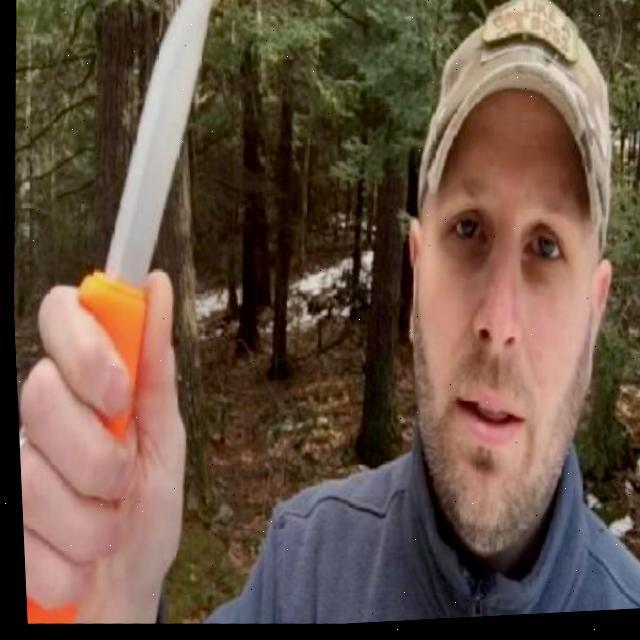knife: (0, 0, 241, 633)
